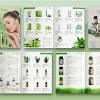paper: (0, 6, 100, 94)
